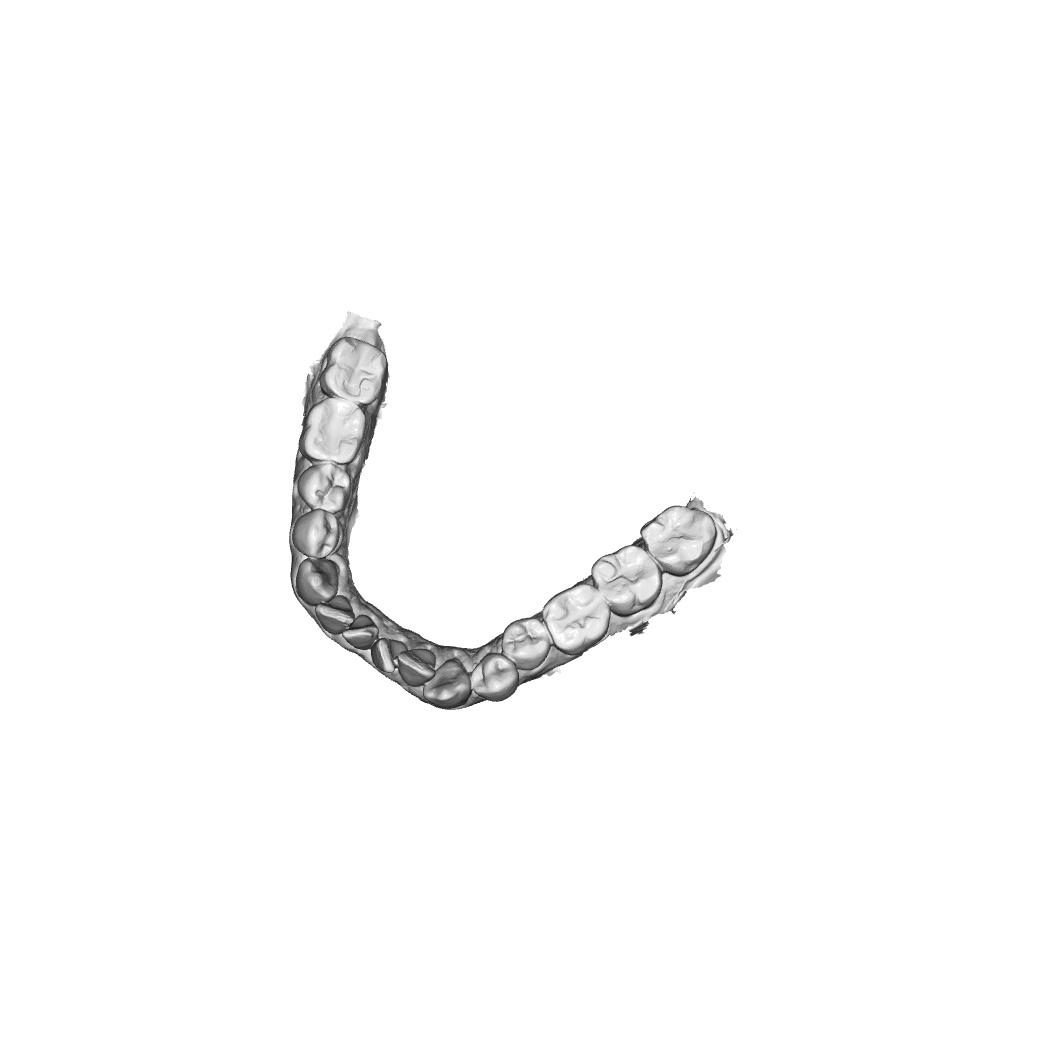canine: (422, 658, 472, 711), (295, 557, 340, 607)
incisor: (314, 594, 356, 635), (397, 648, 437, 688), (341, 613, 380, 651), (370, 637, 409, 673)
molar: (639, 504, 718, 578), (590, 544, 663, 617), (318, 336, 388, 406), (299, 396, 367, 465)
premolar: (541, 582, 612, 656), (297, 462, 352, 514), (501, 617, 552, 671), (291, 508, 345, 559), (471, 651, 520, 703)
